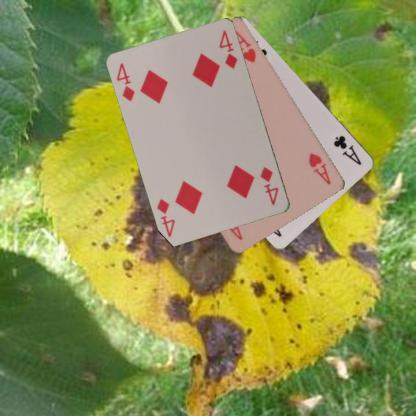4d: (258, 164, 280, 207), (114, 61, 136, 103)
Ac: (331, 132, 363, 167)
Ah: (306, 150, 333, 186)
